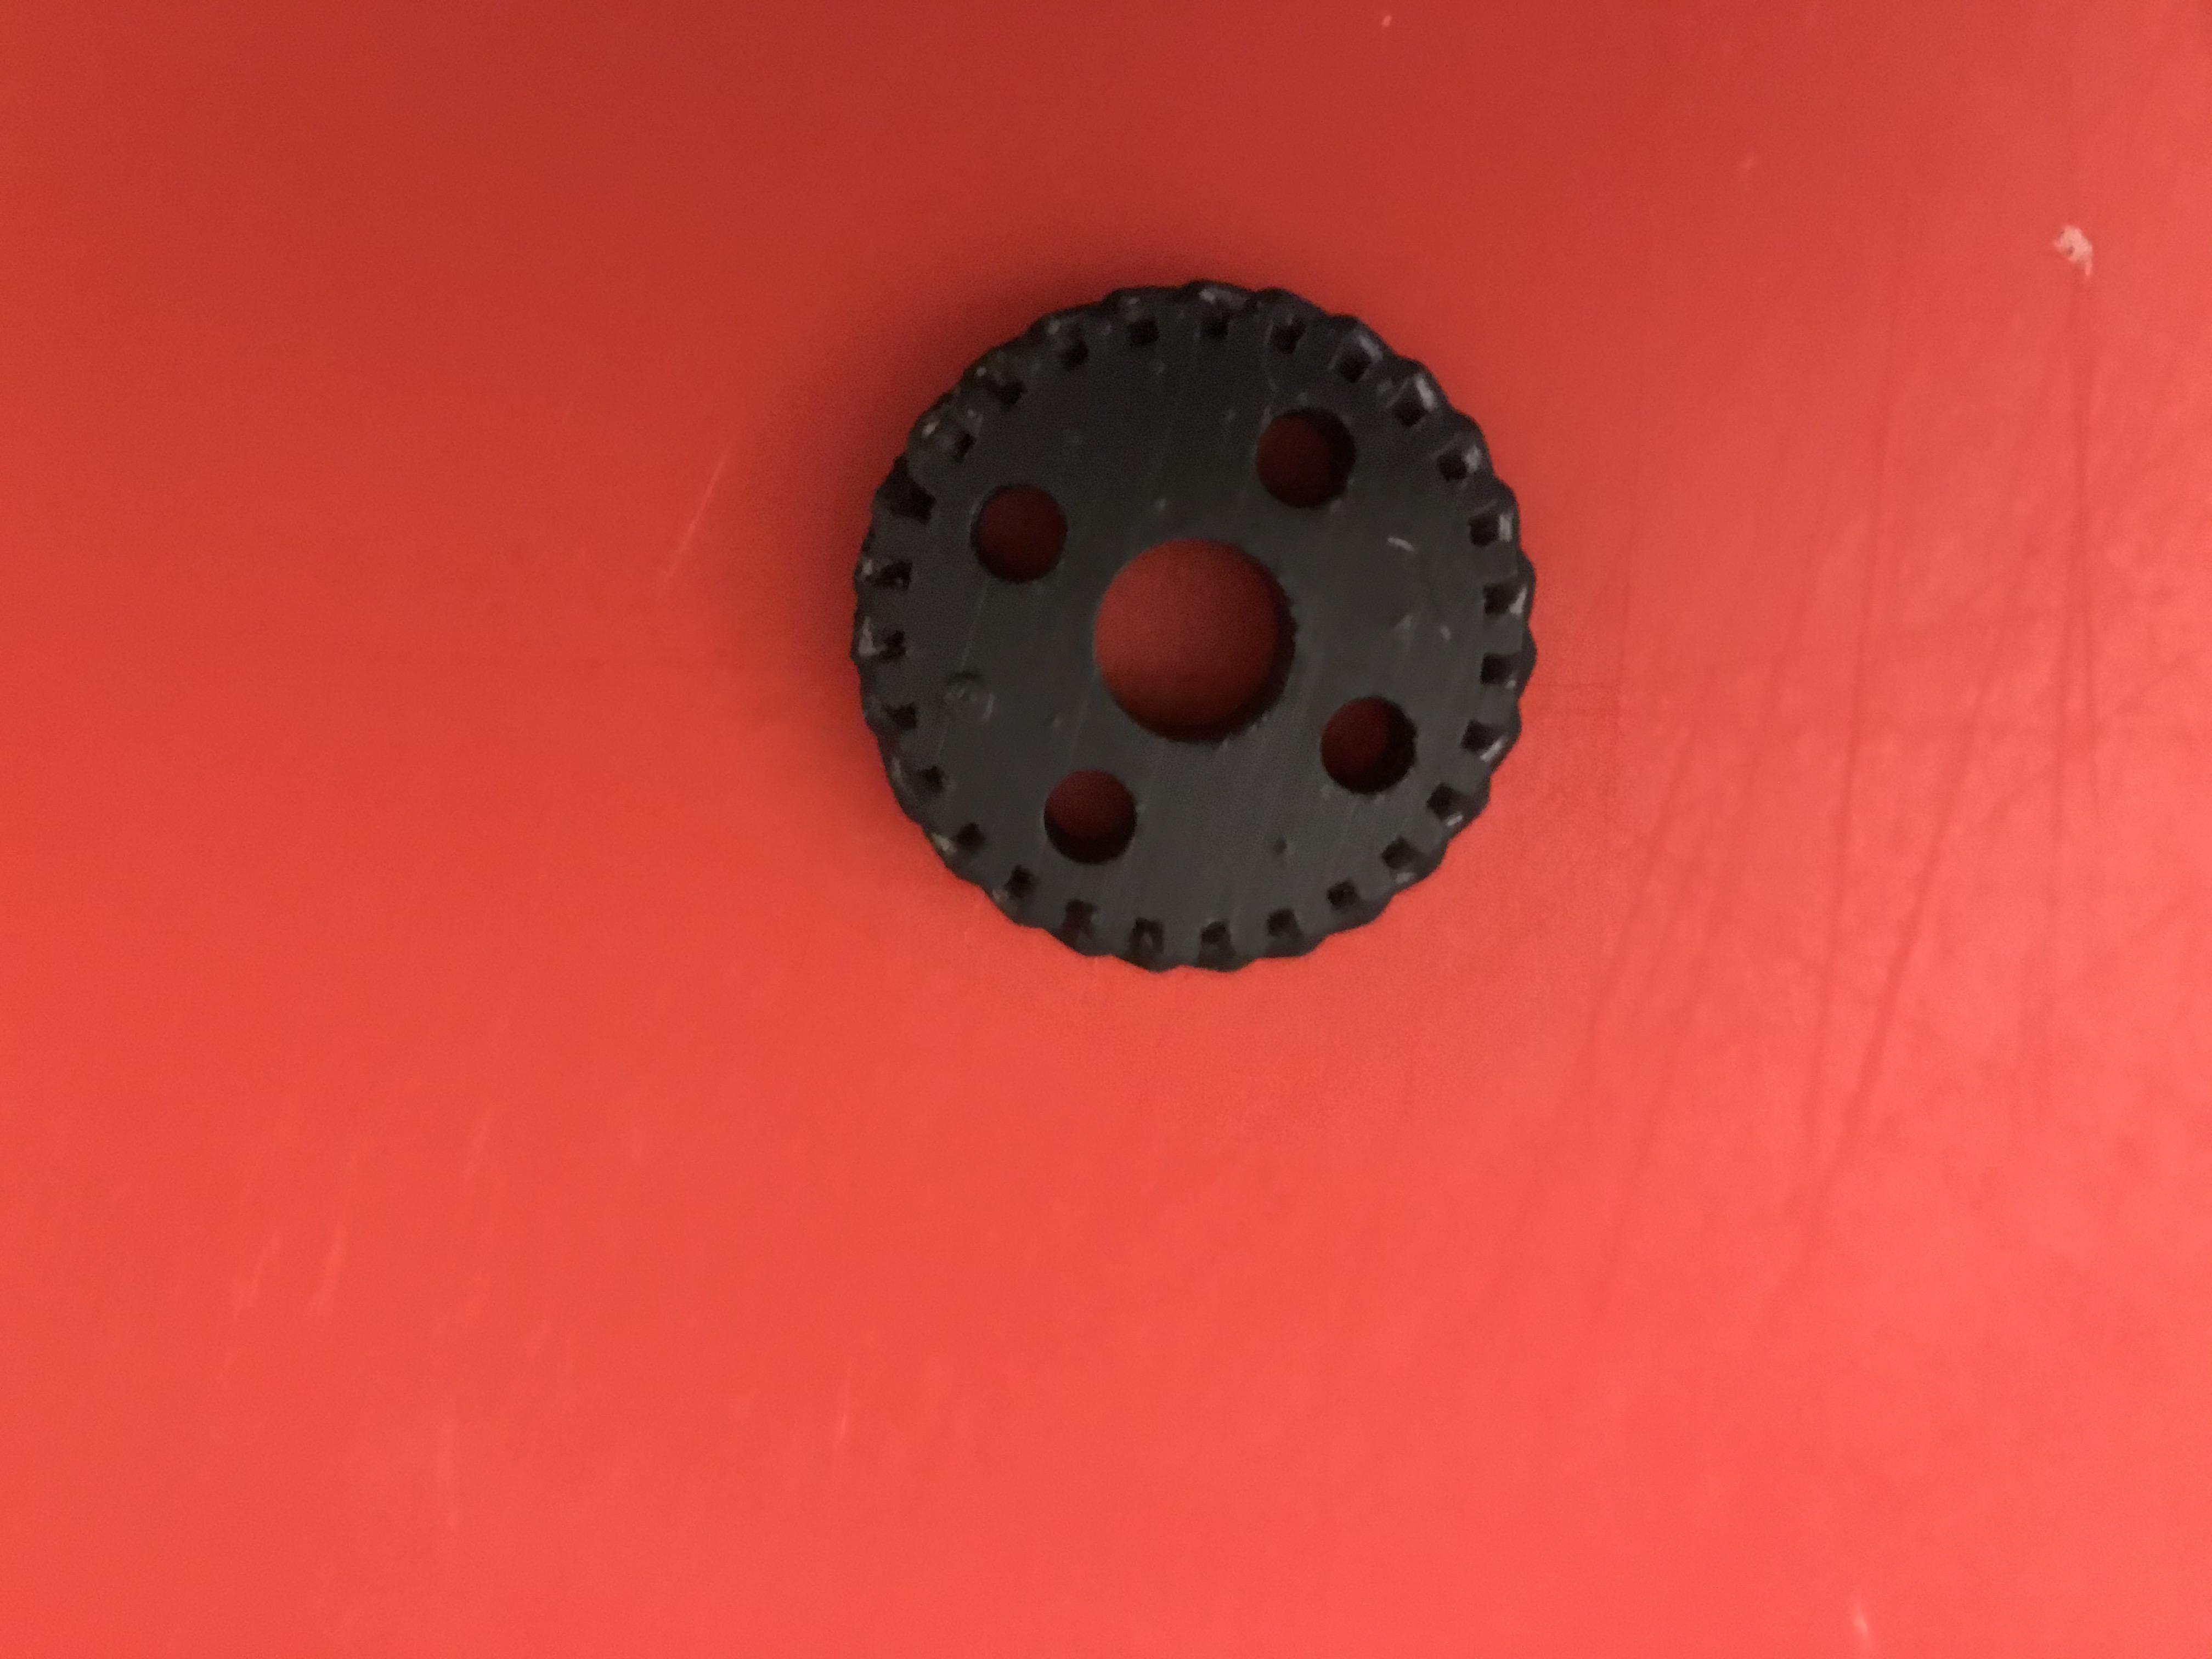Wheel: (850, 268, 1559, 990)
